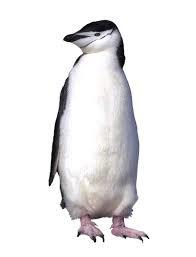chinstrap: (26, 10, 166, 252)
